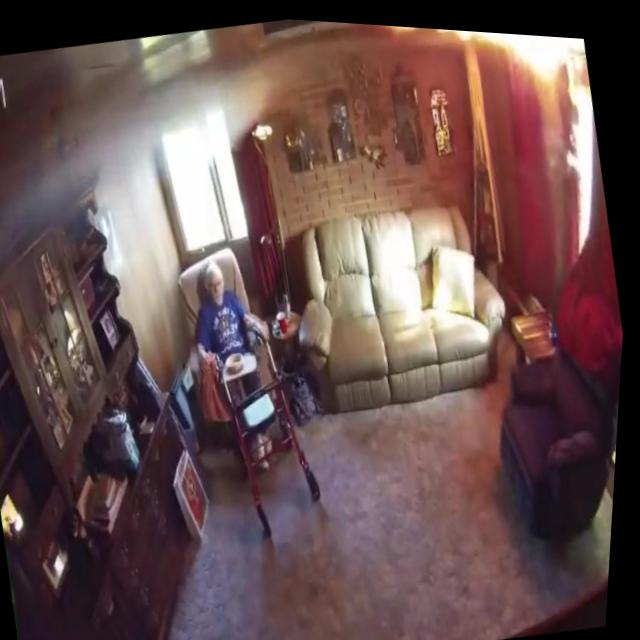fire: (384, 20, 589, 97)
